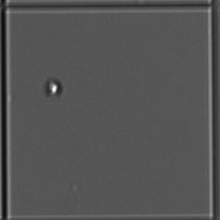Living Cell: (41, 76, 65, 101)
